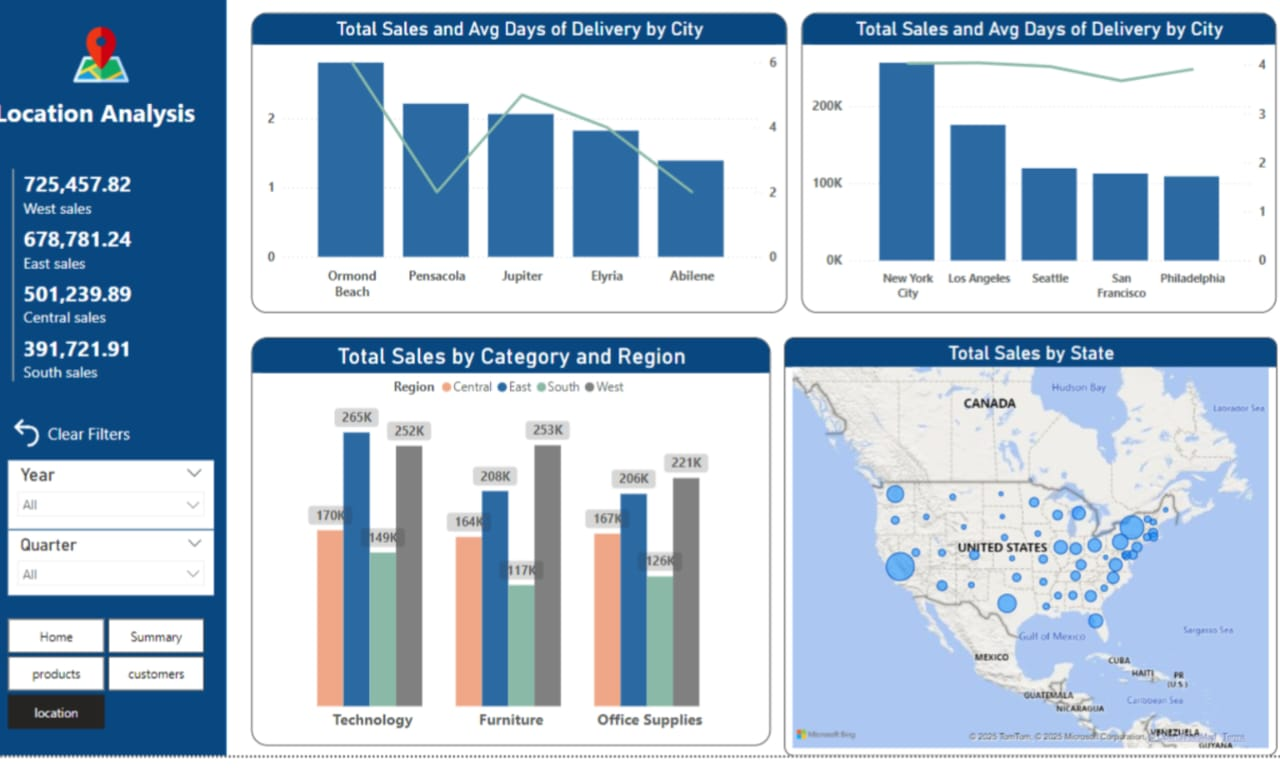

The page's visual inventory and layout, read from the dashboard file:
{"tool":"powerbi","page":{"name":"location","canvas":[1410,820],"ordinal":4},"visuals":[{"type":"lineClusteredColumnComboChart","fields":{"Y":["Dax Measures.Total Sales"],"Category":["Dataset.City"],"Y2":["Dax Measures.Avg Days of Delivery"]},"box":[877.7,16.4,512.6,324.9],"z":0},{"type":"clusteredColumnChart","fields":{"Category":["Dataset.Category"],"Y":["Dax Measures.Total Sales"],"Series":["Dataset.Region"]},"box":[282.7,367.3,560.8,441.4],"z":1000},{"type":"map","fields":{"Category":["Dataset.State"],"Size":["Dax Measures.Total Sales"]},"box":[858.3,366.6,532,453],"z":2000},{"type":"lineClusteredColumnComboChart","fields":{"Y":["Dax Measures.Total Sales"],"Category":["Dataset.City"],"Y2":["Dax Measures.Avg Days of Delivery"]},"box":[283.1,16.4,578.2,324.9],"z":3000},{"type":"shape","box":[0,0,256.3,876.2],"z":4000},{"type":"slicer","fields":{"Values":["Dataset.Order Date.Variation.Date Hierarchy.Year"]},"box":[19.4,500.7,222,74.5],"z":5000},{"type":"slicer","fields":{"Values":["Dataset.Order Date.Variation.Date Hierarchy.Quarter"]},"box":[19.4,575.2,222,70],"z":6000},{"type":"actionButton","box":[19.4,450,135.6,40.2],"z":7000},{"type":"pageNavigator","box":[19.4,672.1,213.1,119.2],"z":8000},{"type":"multiRowCard","fields":{"Values":["Dax Measures.West sales","Dax Measures.East sales","Dax Measures.North sales","Dax Measures.South sales"]},"box":[19.4,180.3,169.9,245.9],"z":9000},{"type":"textbox","box":[0,99.8,241.4,58.1],"z":10000},{"type":"image","box":[86.2,21.2,69.5,78.6],"z":11000}]}

Visuals, with their boxes in screenshot pixels (x1, y1, x2, y2):
lineClusteredColumnComboChart - Dax Measures.Total Sales x Dataset.City: crop(801, 39, 1277, 340)
clusteredColumnChart - Dataset.Category x Dax Measures.Total Sales: crop(249, 364, 770, 772)
map - Dataset.State x Dax Measures.Total Sales: crop(783, 364, 1277, 772)
lineClusteredColumnComboChart - Dax Measures.Total Sales x Dataset.City: crop(249, 39, 786, 340)
shape: crop(0, 23, 225, 772)
slicer - Dataset.Order Date.Variation.Date Hierarchy.Year: crop(5, 488, 211, 557)
slicer - Dataset.Order Date.Variation.Date Hierarchy.Quarter: crop(5, 557, 211, 622)
actionButton: crop(5, 441, 131, 478)
pageNavigator: crop(5, 647, 202, 758)
multiRowCard - Dax Measures.West sales x Dax Measures.East sales: crop(5, 191, 162, 419)
textbox: crop(0, 116, 211, 170)
image: crop(67, 43, 131, 116)
